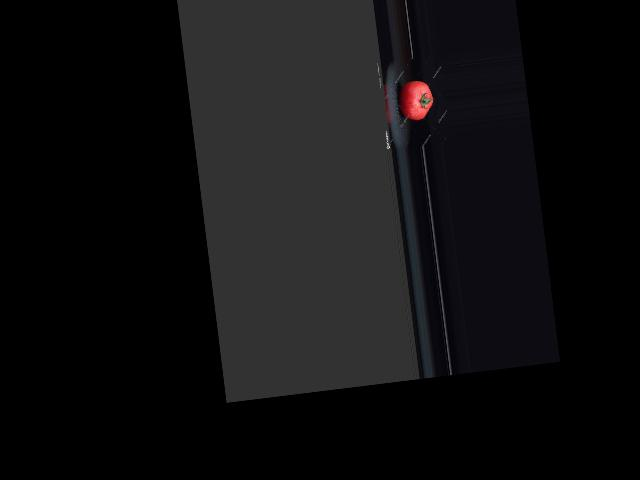tomato: (396, 78, 435, 121)
